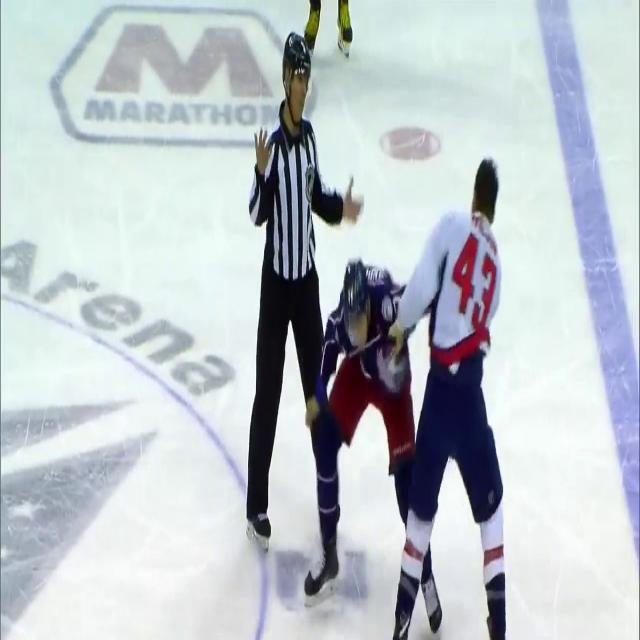Violence: (308, 159, 506, 640)
